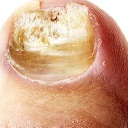Nail Fungal Infection: (14, 3, 95, 72)
